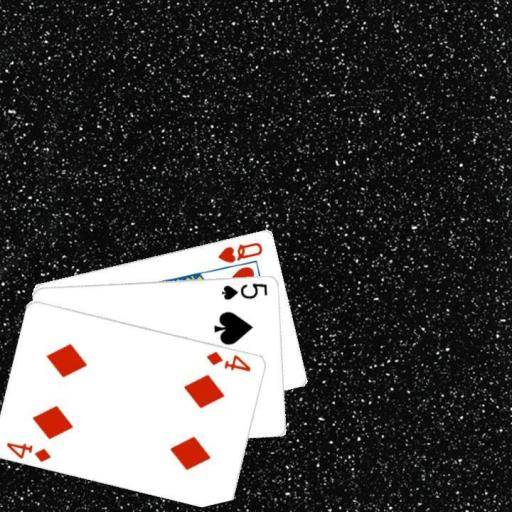card-corner: (214, 238, 264, 265), (4, 438, 54, 464), (204, 348, 254, 372), (219, 279, 270, 301)
